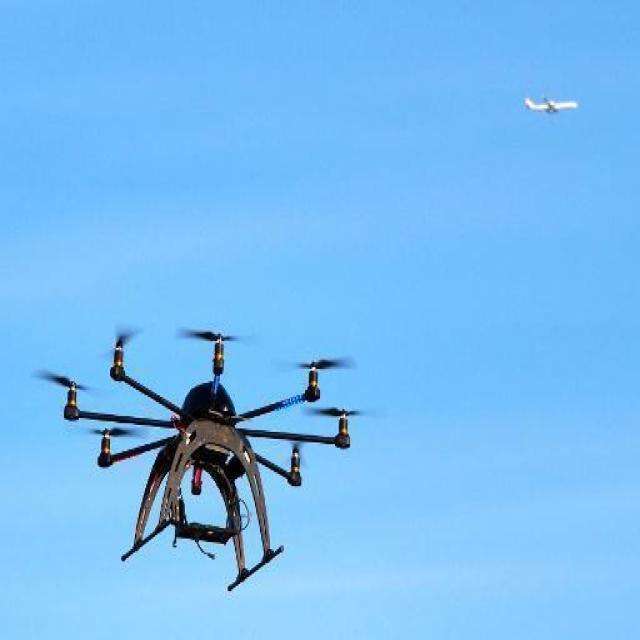drone: (60, 322, 354, 594)
